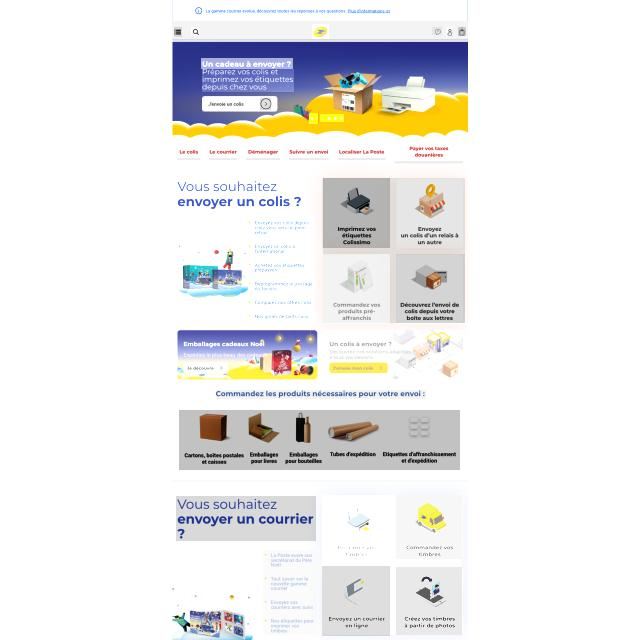CheckBox: (202, 96, 277, 112), (310, 113, 320, 124)
ImageView: (324, 330, 464, 380), (177, 330, 317, 379)
Input field: (202, 69, 294, 92), (216, 390, 426, 399), (201, 58, 293, 69)
ProgressBar: (173, 0, 467, 21)
Spinner: (396, 254, 466, 324), (396, 178, 465, 248), (322, 178, 390, 248), (322, 566, 390, 636), (323, 254, 390, 323), (322, 495, 390, 561), (397, 567, 462, 635), (397, 495, 462, 559)
TextView: (179, 410, 460, 470), (248, 216, 315, 323), (263, 550, 317, 635)
bag: (172, 22, 468, 42)
card: (172, 42, 468, 140)
carousel: (260, 98, 271, 110), (432, 28, 442, 35), (191, 28, 199, 36), (458, 28, 466, 36), (174, 29, 181, 35), (447, 28, 452, 36)
content: (176, 241, 248, 299)
data feed: (208, 100, 244, 108)
date picker: (312, 25, 329, 39)
decoration: (323, 178, 465, 323), (322, 495, 462, 635), (172, 144, 470, 164), (175, 28, 182, 37)
dropdown: (320, 114, 344, 122)
image: (176, 496, 316, 541), (175, 178, 305, 208)
